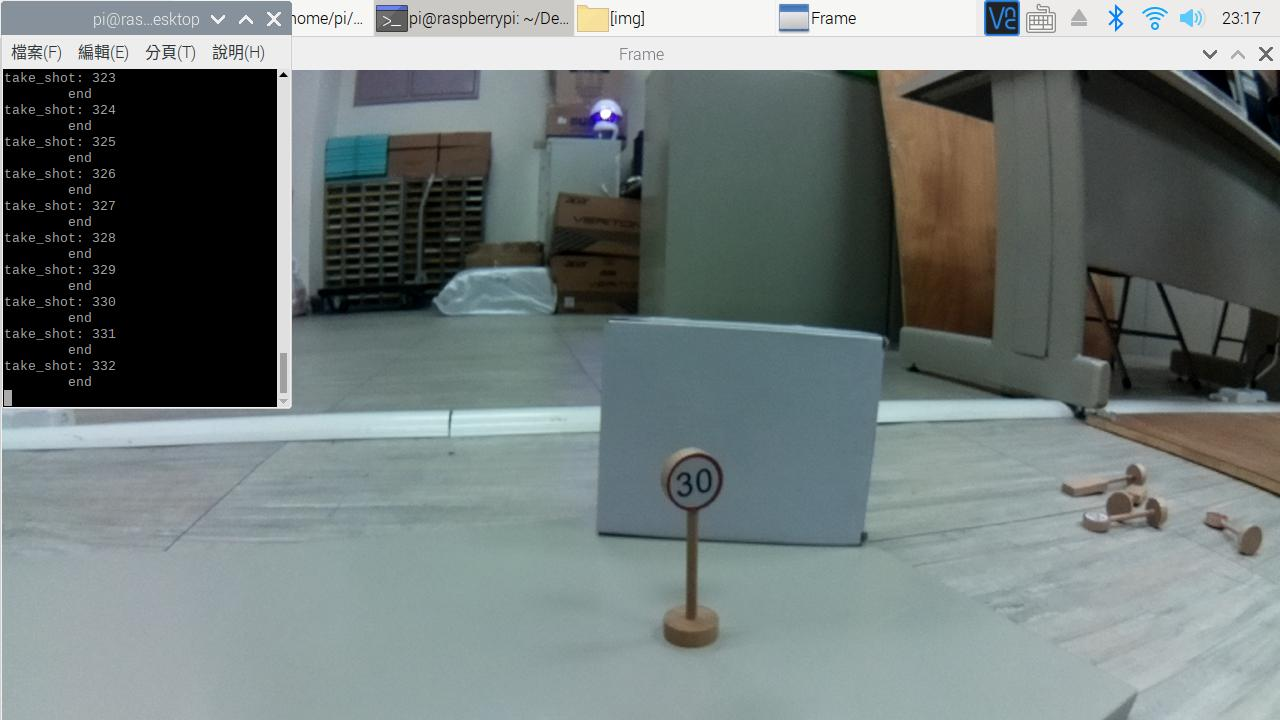Speed30: (646, 443, 744, 536)
